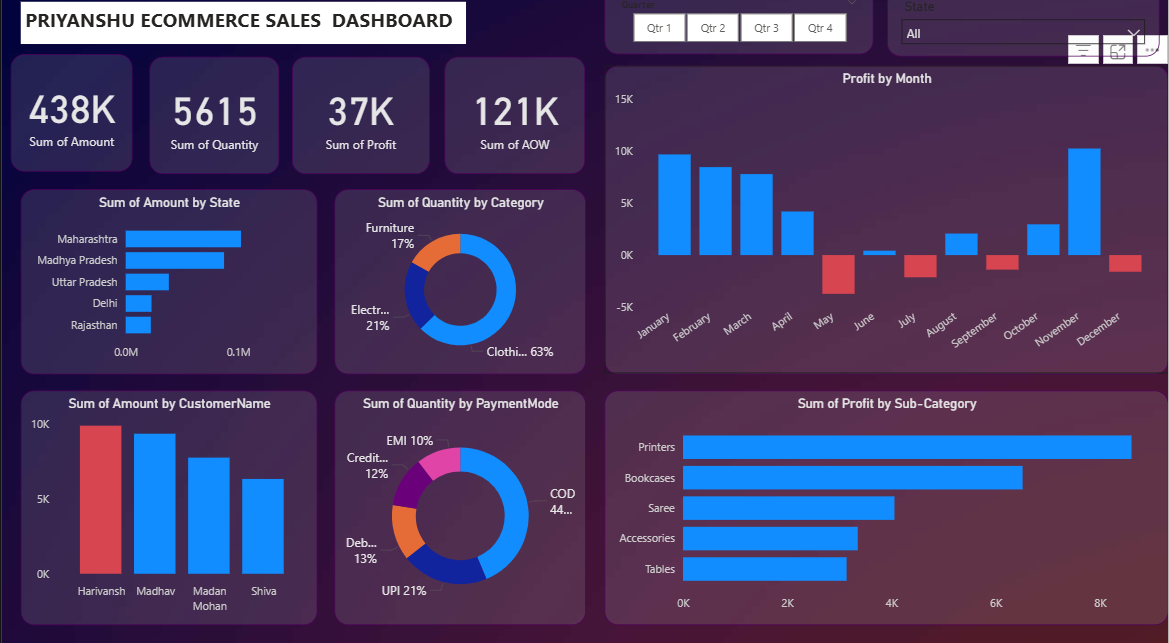

The dashboard page shown, as its layout file describes it:
{"tool":"powerbi","page":{"name":"Page 1","canvas":[1280,720],"ordinal":0},"visuals":[{"type":"textbox","box":[20.6,15.1,488.5,46.7],"z":0},{"type":"columnChart","title":"Profit by Month","fields":{"Category":["Orders.Order Date.Variation.Date Hierarchy.Month"],"Y":["Sum(Details.Profit)"]},"box":[661.4,85.1,618.9,338.9],"z":1000},{"type":"barChart","fields":{"Category":["Details.Sub-Category"],"Y":["Sum(Details.Profit)"]},"box":[661.4,441.9,618.9,258],"z":2000},{"type":"donutChart","fields":{"Category":["Details.Category"],"Y":["Sum(Details.Quantity)"]},"box":[365,220.9,275.8,203.1],"z":3000},{"type":"donutChart","fields":{"Category":["Details.PaymentMode","Details.Category"],"Y":["Sum(Details.Quantity)"]},"box":[365,441.9,275.8,258],"z":4000},{"type":"card","fields":{"Values":["Sum(Details.Amount)"]},"box":[9.8,72.4,133.7,128.8],"z":5000},{"type":"card","fields":{"Values":["Sum(Details.Quantity)"]},"box":[162,74.8,142.3,128.8],"z":6000},{"type":"card","fields":{"Values":["Sum(Details.Profit)"]},"box":[319,76.1,150.9,128.8],"z":7000},{"type":"card","fields":{"Values":["Sum(Details.AOW)"]},"box":[485.9,76.1,154.6,128.8],"z":8000},{"type":"barChart","fields":{"Category":["Orders.State"],"Y":["Sum(Details.Amount)"]},"box":[20.6,220.9,325.2,203.1],"z":9000},{"type":"columnChart","fields":{"Category":["Orders.CustomerName"],"Y":["Sum(Details.Amount)"]},"box":[20.6,441.9,325.2,258],"z":10000},{"type":"slicer","fields":{"Values":["Orders.Order Date.Variation.Date Hierarchy.Quarter"]},"box":[661.4,0,295,72.7],"z":11000},{"type":"slicer","fields":{"Values":["Orders.State"]},"box":[971.5,0,299.1,75.5],"z":11001}]}

Visuals, with their boxes in screenshot pixels (x1, y1, x2, y2), scaled from the page's 1280x720 canvas onto the 1169x643 screenshot:
textbox: 19:13:465:55
"Profit by Month" columnChart: 604:76:1168:379
barChart - Details.Sub-Category x Sum(Details.Profit): 604:395:1168:625
donutChart - Details.Category x Sum(Details.Quantity): 333:197:585:379
donutChart - Details.PaymentMode x Details.Category: 333:395:585:625
card - Sum(Details.Amount): 9:65:131:180
card - Sum(Details.Quantity): 148:67:278:182
card - Sum(Details.Profit): 291:68:429:183
card - Sum(Details.AOW): 444:68:585:183
barChart - Orders.State x Sum(Details.Amount): 19:197:316:379
columnChart - Orders.CustomerName x Sum(Details.Amount): 19:395:316:625
slicer - Orders.Order Date.Variation.Date Hierarchy.Quarter: 604:0:873:65
slicer - Orders.State: 887:0:1160:67
